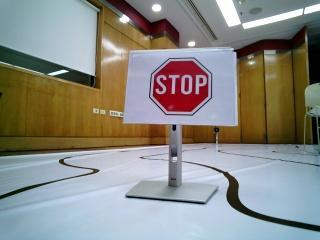stop: (130, 55, 234, 127)
